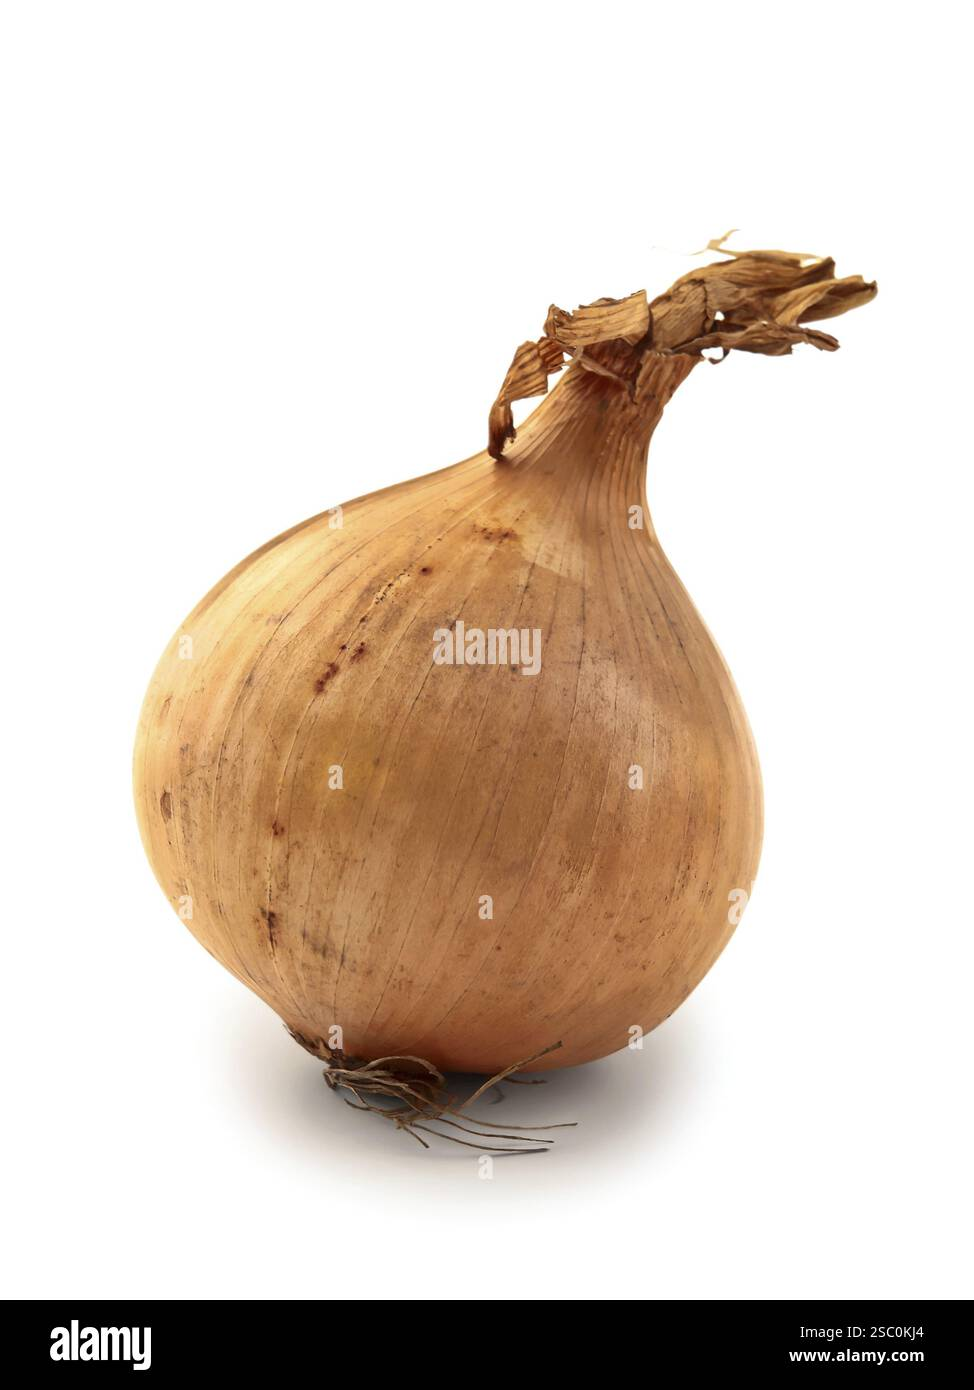onion rotten: (72, 140, 811, 1178)
